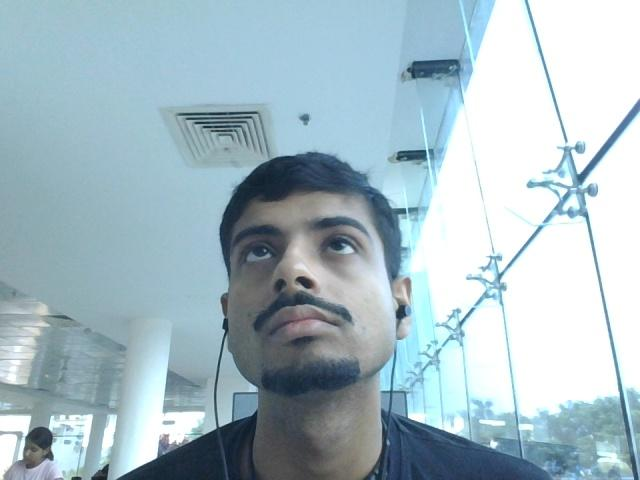average: (212, 132, 422, 417)
